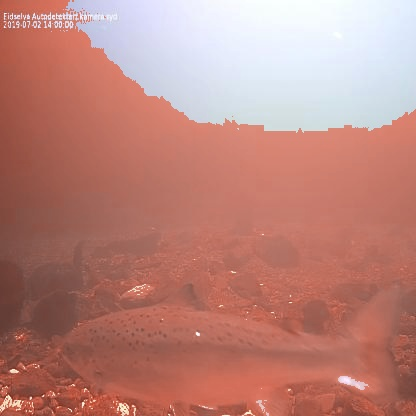salmon: (55, 278, 406, 416)
